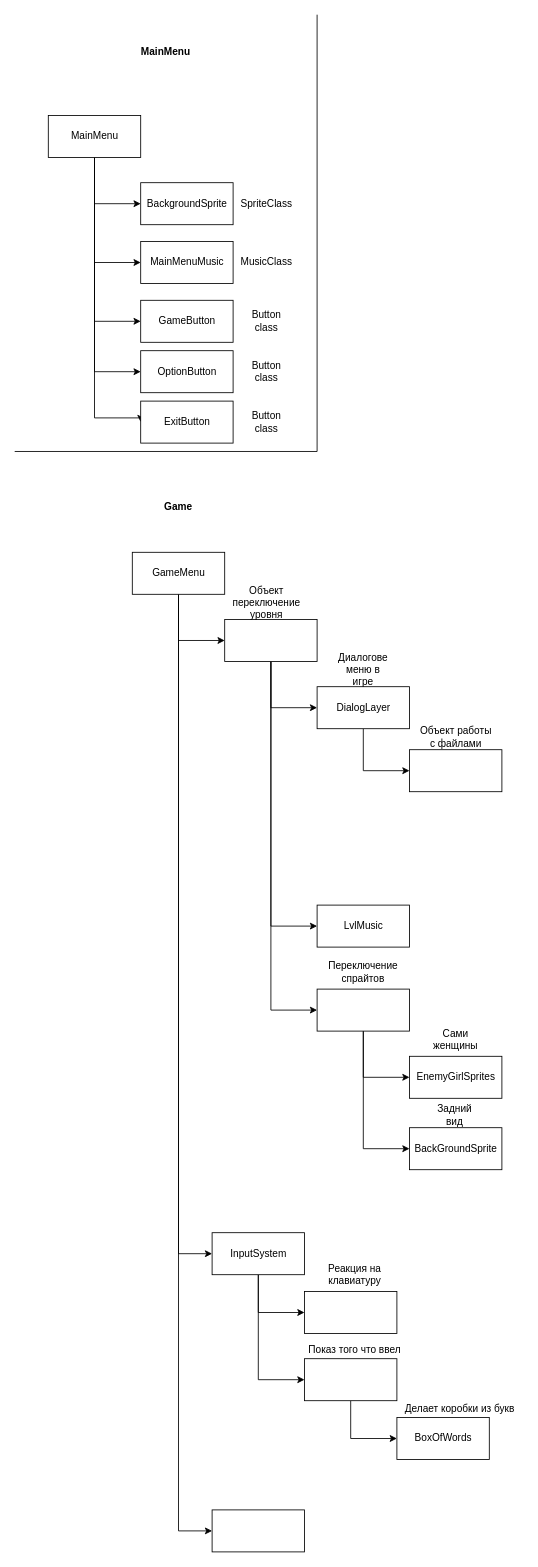
Some shapes in this 538 by 1567 pixel diagram are drawn without their labels. The box of each missing label's shape, as (x1, y1, x2, y2) in pixels:
AnimationSprite: (316, 988, 410, 1031)
DialogsFiles: (409, 749, 502, 792)
ESCMenu: (211, 1509, 304, 1552)
KeyBoardInput: (304, 1291, 397, 1334)
LvlChooser: (224, 619, 317, 662)
ShowInput: (304, 1358, 397, 1401)
